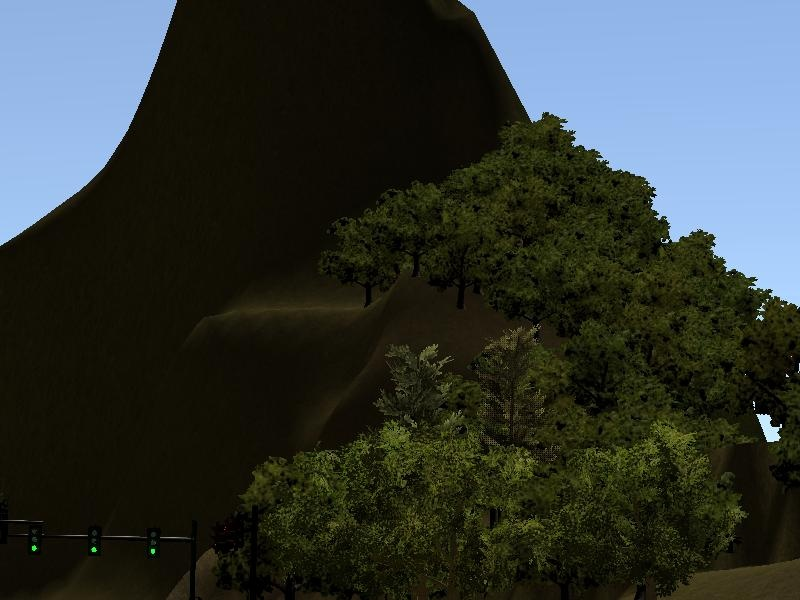GREEN: (144, 520, 164, 565), (85, 521, 105, 561), (24, 518, 43, 557)
